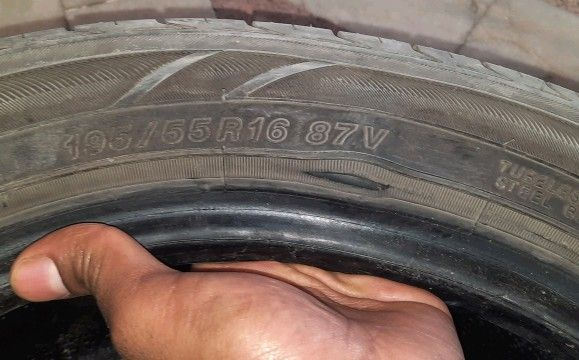cut: (301, 171, 395, 192)
